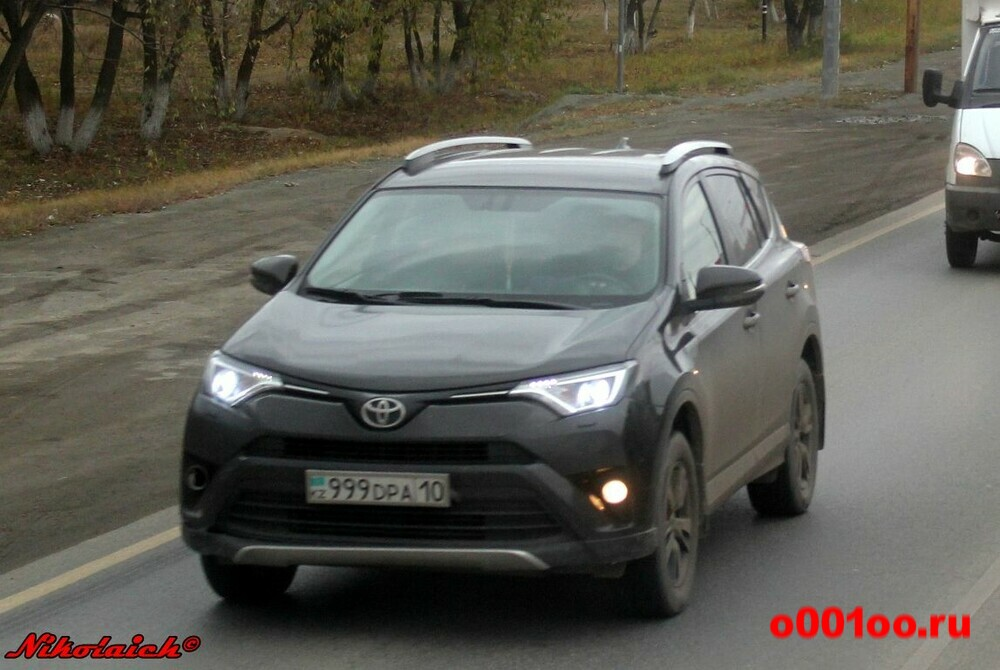license_plate: (304, 468, 455, 508)
